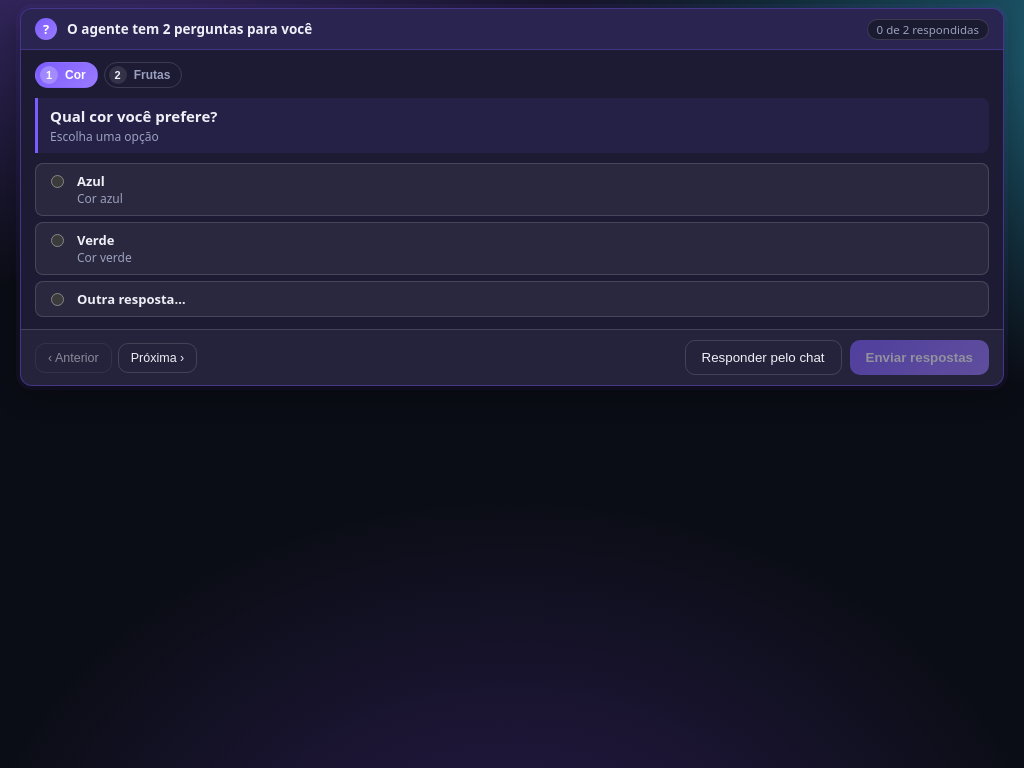
Test: QuestionPanel › várias perguntas: Anterior/Próxima navegam e travam nas pontas
Check: the button "‹ Anterior" is disabled, box x1=35 y1=343 x2=112 y2=373
Check: the text "Qual cor você prefere?" is shown, box x1=50 y1=106 x2=217 y2=126
Click the button "Próxima ›" at (158, 358), box x1=118 y1=343 x2=197 y2=373
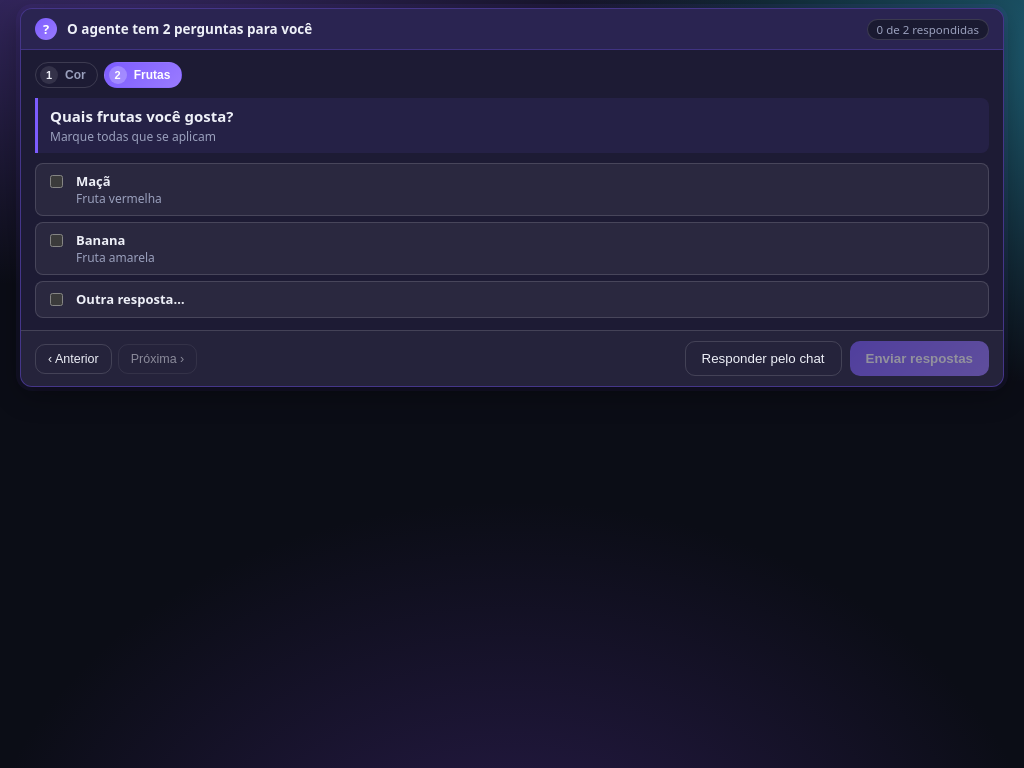
Check: the text "Quais frutas você gosta?" is shown, box x1=50 y1=106 x2=233 y2=126
Check: the button "Próxima ›" is disabled, box x1=118 y1=344 x2=197 y2=374
Check: the button "‹ Anterior" is enabled
Click the button "‹ Anterior" at (73, 359), box x1=35 y1=344 x2=112 y2=374
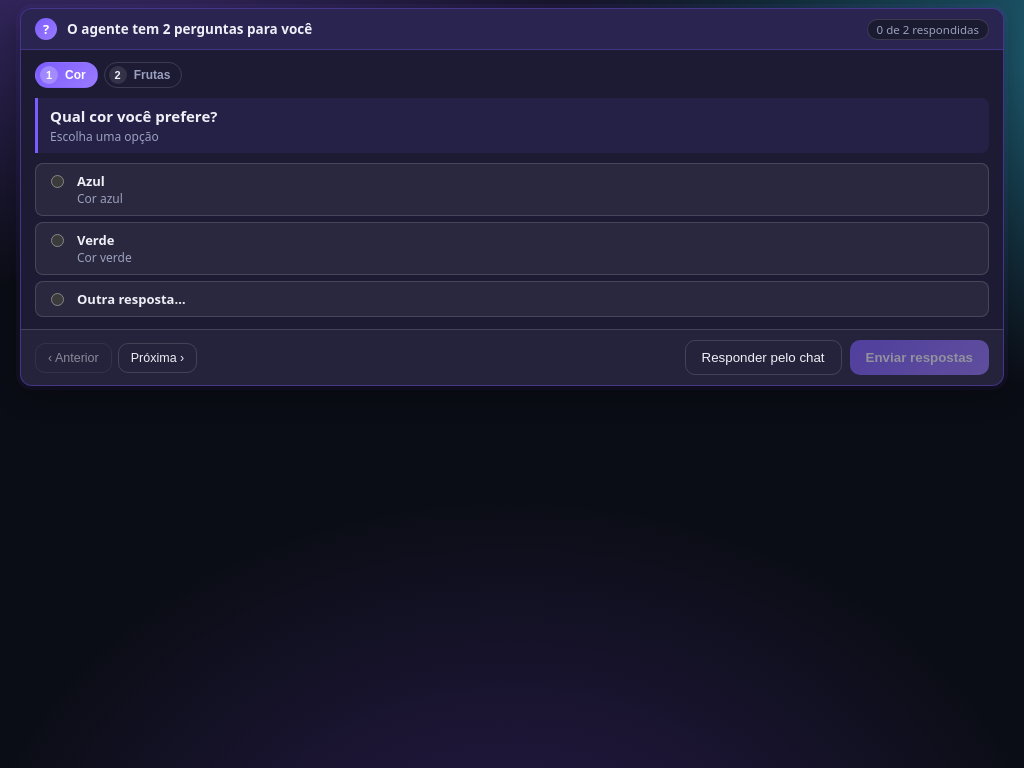
Check: the text "Qual cor você prefere?" is shown, box x1=50 y1=106 x2=217 y2=126
